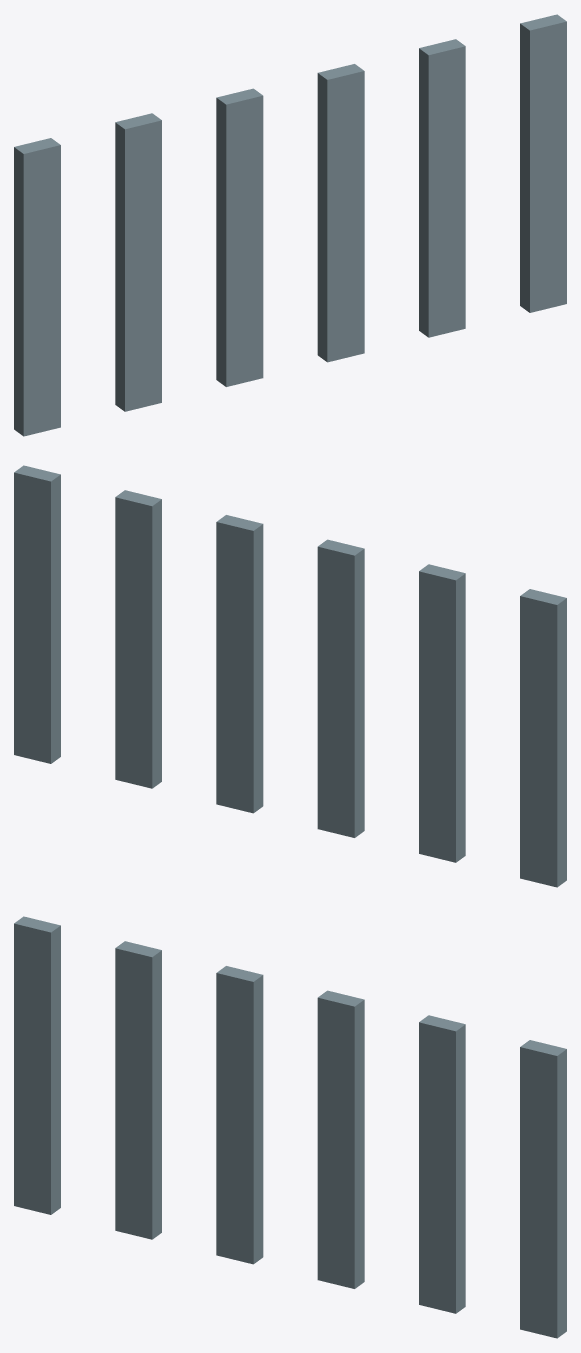
The model's file is Utility_HVAC_Grille.glb.
The picture shows the model from 3 angles, top to bottom: view 1: azimuth 30°, elevation 25°; view 2: azimuth 150°, elevation 25°; view 3: azimuth 330°, elevation 25°; orthographic projection.
Parts seen in each view (by area): view 1: Utility_HVAC_Grille; view 2: Utility_HVAC_Grille; view 3: Utility_HVAC_Grille.
Boxes of the visible parts, box(x1,y1,x2,y2) form: Utility_HVAC_Grille: box(14, 14, 566, 436); Utility_HVAC_Grille: box(14, 465, 566, 887); Utility_HVAC_Grille: box(14, 916, 566, 1338).
Size of the model in its own units: 1.61 by 0.8 by 0.05.
